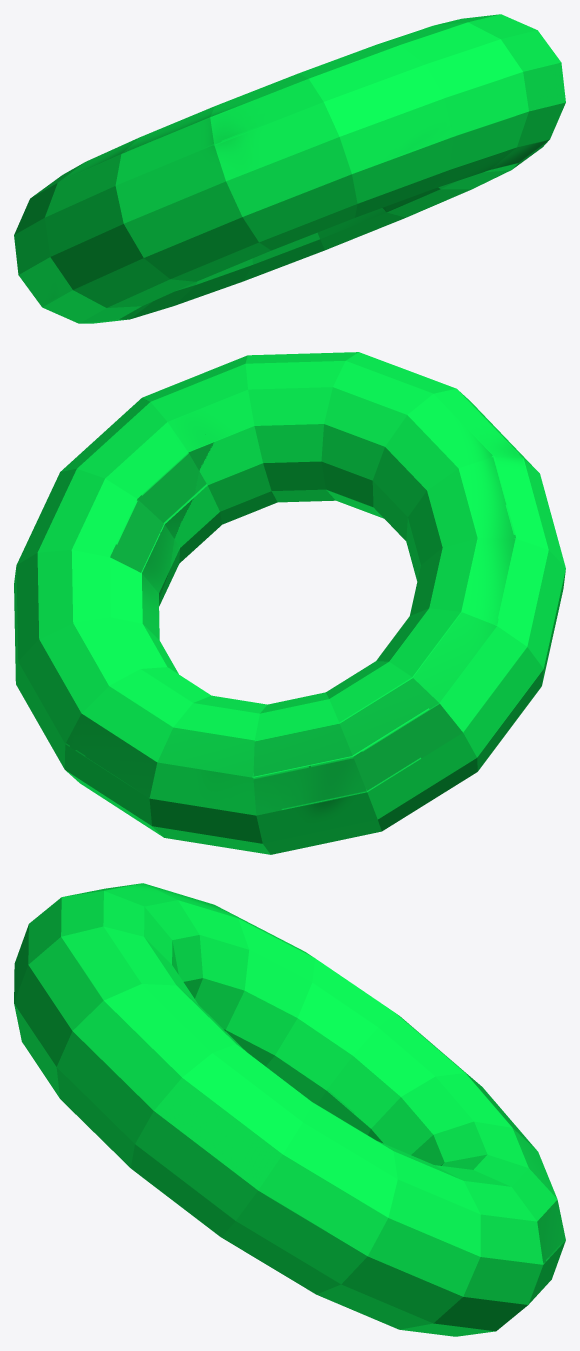
The model's file is flot2.obj.
The picture shows the model from 3 angles, top to bottom: view 1: azimuth 30°, elevation 25°; view 2: azimuth 150°, elevation 25°; view 3: azimuth 270°, elevation 25°; orthographic projection. The views are drawn at different scales.
Parts seen in each view (by area): view 1: Torus.000_Torus.005; view 2: Torus.000_Torus.005; view 3: Torus.000_Torus.005.
Part boxes in pixels (x1,y1,x2,y2): Torus.000_Torus.005: [14, 14, 565, 323]; Torus.000_Torus.005: [14, 352, 565, 854]; Torus.000_Torus.005: [14, 883, 565, 1336].
Bounding box in the file's own units: 3.65 × 2.5 × 3.2.
1 material, 1 textured.
